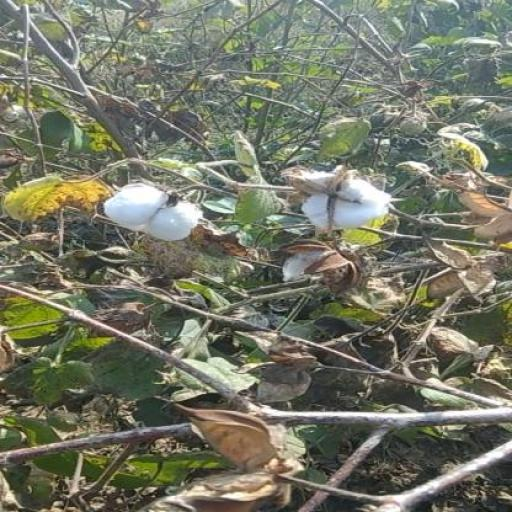cotton_ready: (298, 157, 396, 243), (97, 186, 189, 236)
